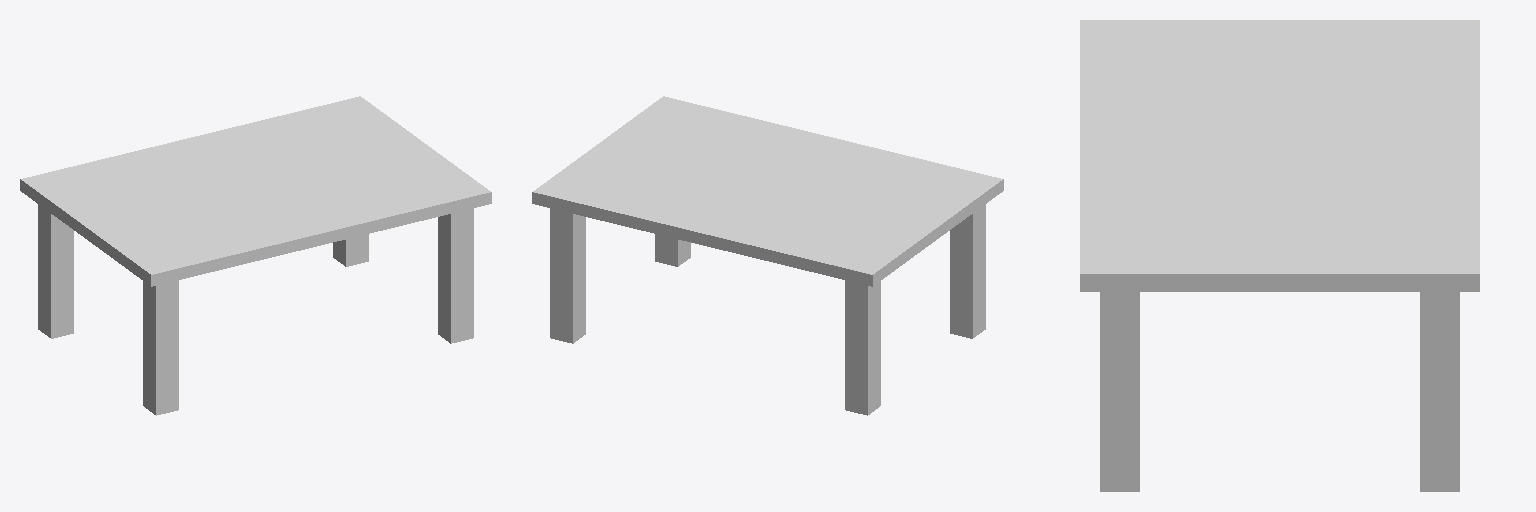
The robot description file, URDF, robot "table.urdf":
<?xml version="1.0" ?>
<robot name="table.urdf">

  <material name="White">
    <color rgba="0.9 0.9 0.9 1.0"/>
  </material>
  <material name="WoodBrown">
    <color rgba="1.0 0.9 0.75 1.0"/>
  </material>

  <link name="baseLink">
    <contact>
      <lateral_friction value="1.0"/>
    </contact>

    <inertial>
      <origin rpy="0 0 0" xyz="0 0 0"/>
       <mass value=".0"/>
       <inertia ixx="1" ixy="0" ixz="0" iyy="1" iyz="0" izz="1"/>
    </inertial>

    <visual>
      <origin rpy="0 0 0" xyz="0 0 0.6"/>
      <geometry>
        <box size="1.5 1 0.05"/>
      </geometry>
       <material name="White"/>
    </visual>

    <collision>
      <origin rpy="0 0 0" xyz="0 0 0.6"/>
      <geometry>
    	 	<box size="1.5 1 0.05"/>
      </geometry>
    </collision>

	  <visual>
      <origin rpy="0 0 0" xyz="-0.65 -0.4 0.29"/>
      <geometry>
        <box size="0.1 0.1 0.58"/>
      </geometry>
      <material name="White"/>
    </visual>

    <visual>
      <origin rpy="0 0 0" xyz="-0.65 0.4 0.29"/>
      <geometry>
        <box size="0.1 0.1 0.58"/>
      </geometry>
      <material name="White"/>
	  </visual>

    <visual>
      <origin rpy="0 0 0" xyz="0.65 -0.4 0.29"/>
      <geometry>
        <box size="0.1 0.1 0.58"/>
      </geometry>
      <material name="White"/>
	  </visual>

    <visual>
      <origin rpy="0 0 0" xyz="0.65 0.4 0.29"/>
      <geometry>
        <box size="0.1 0.1 0.58"/>
      </geometry>
      <material name="White"/>
    </visual>

  </link>
</robot>

--- Render facts (derived) ---
The picture shows the robot from 3 angles, left to right: view 1: azimuth 30°, elevation 25°; view 2: azimuth 150°, elevation 25°; view 3: azimuth 270°, elevation 25°; orthographic projection.
Robot: table.urdf — 1 links, 0 joints (none); root link baseLink; default pose: every joint at zero.
Links seen in each view (by area): view 1: baseLink; view 2: baseLink; view 3: baseLink.
Link boxes in pixels (x1=…): baseLink: x1=20, y1=96, x2=491, y2=415; baseLink: x1=532, y1=96, x2=1003, y2=415; baseLink: x1=1080, y1=20, x2=1479, y2=491.
Size in the robot's own frame: 1.5 by 1 by 0.625 metres.
Geometry: primitives only (box / cylinder / sphere), no mesh files.